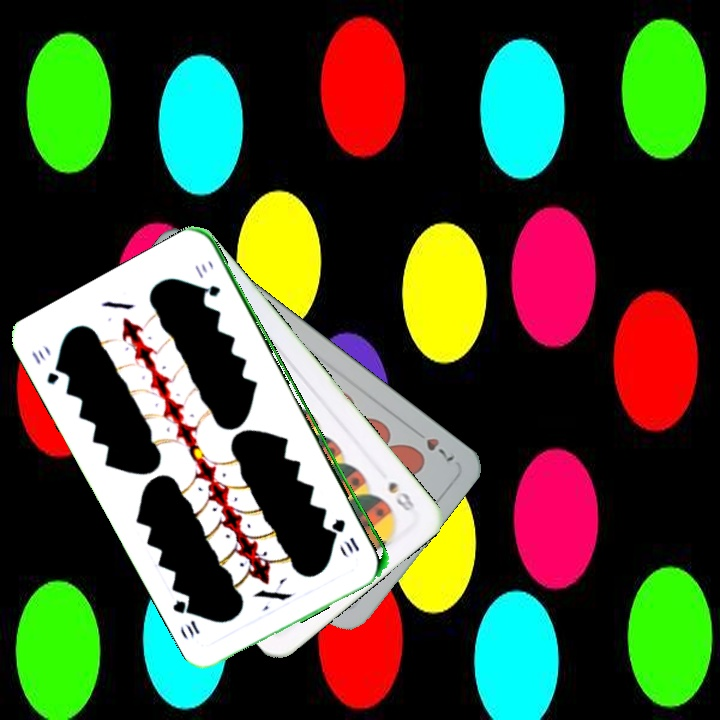G10: (27, 347, 66, 388), (330, 514, 362, 554)
H7: (408, 426, 458, 465)
S8: (384, 477, 421, 515)
